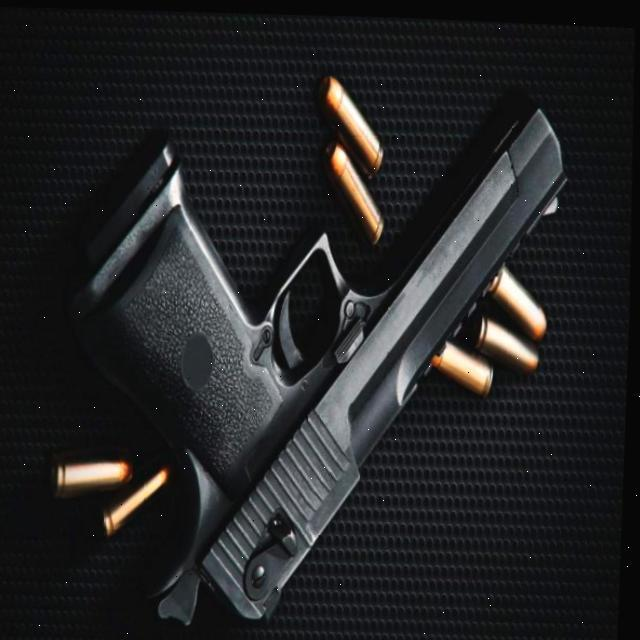gun: (58, 81, 578, 632)
